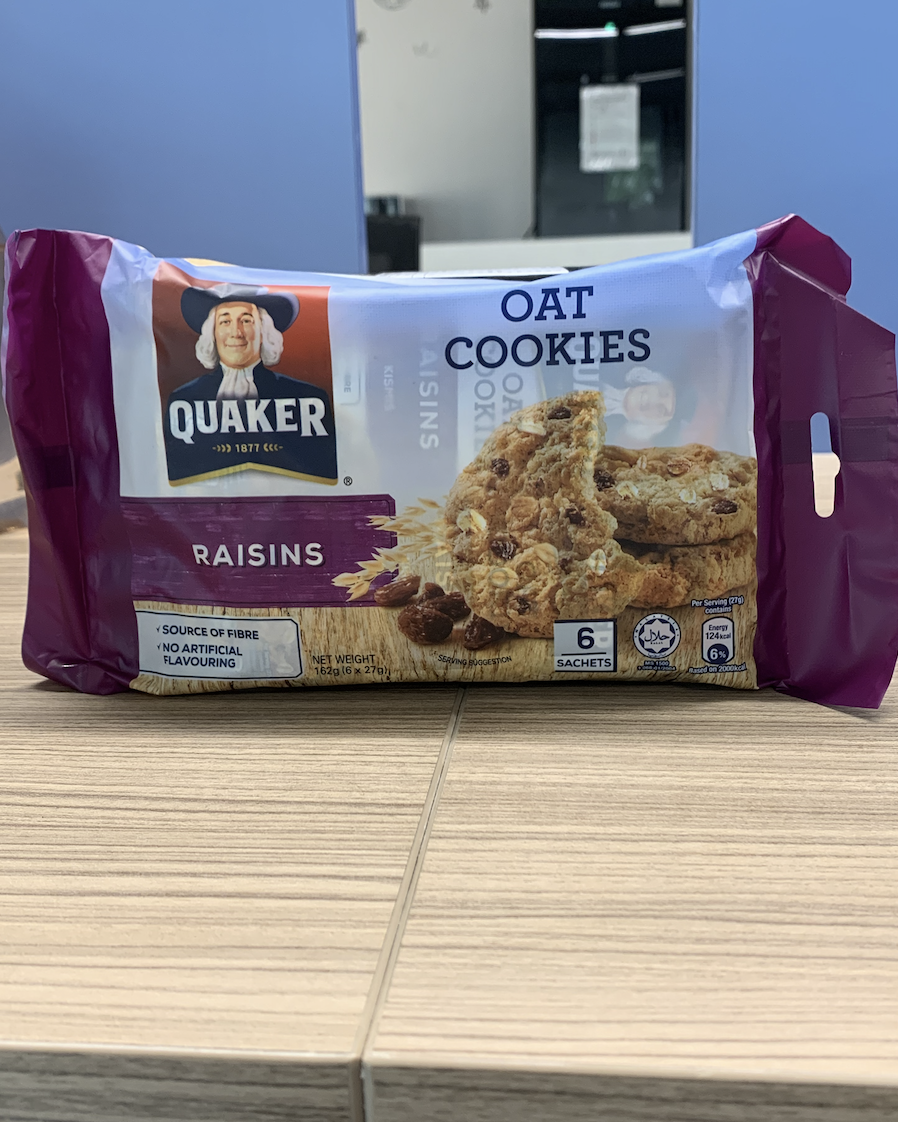cookies_100g-199g: (72, 280, 761, 685)
